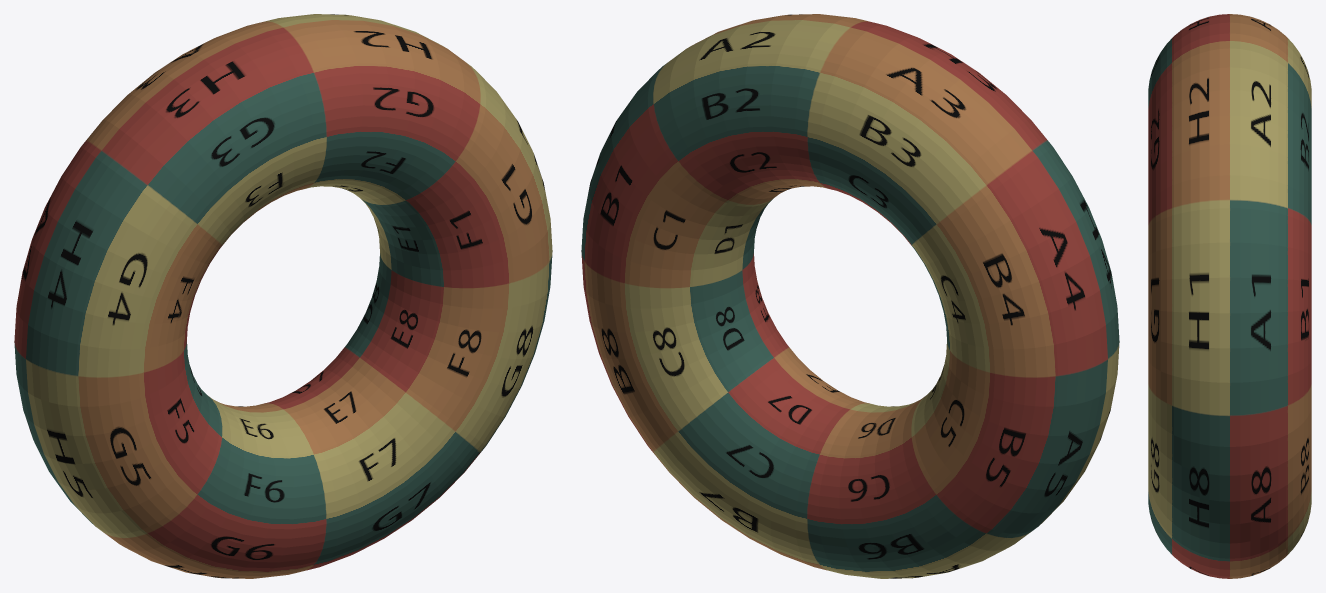
Rendered from texture_torus_R8_r16.glb.
3 views of the same model, side by side, from view 1: azimuth 30°, elevation 25°; view 2: azimuth 150°, elevation 25°; view 3: azimuth 270°, elevation 25° (orthographic). The views are drawn at different scales.
Visible parts, largest first — view 1: world; view 2: world; view 3: world.
Part boxes in pixels (x1,y1,x2,y2): world: (14,14,552,578); world: (581,14,1119,578); world: (1148,14,1311,578).
Size of the model in its own units: 21.6 by 21.56 by 6.25.
Materials: 1 (1 with a texture image).
